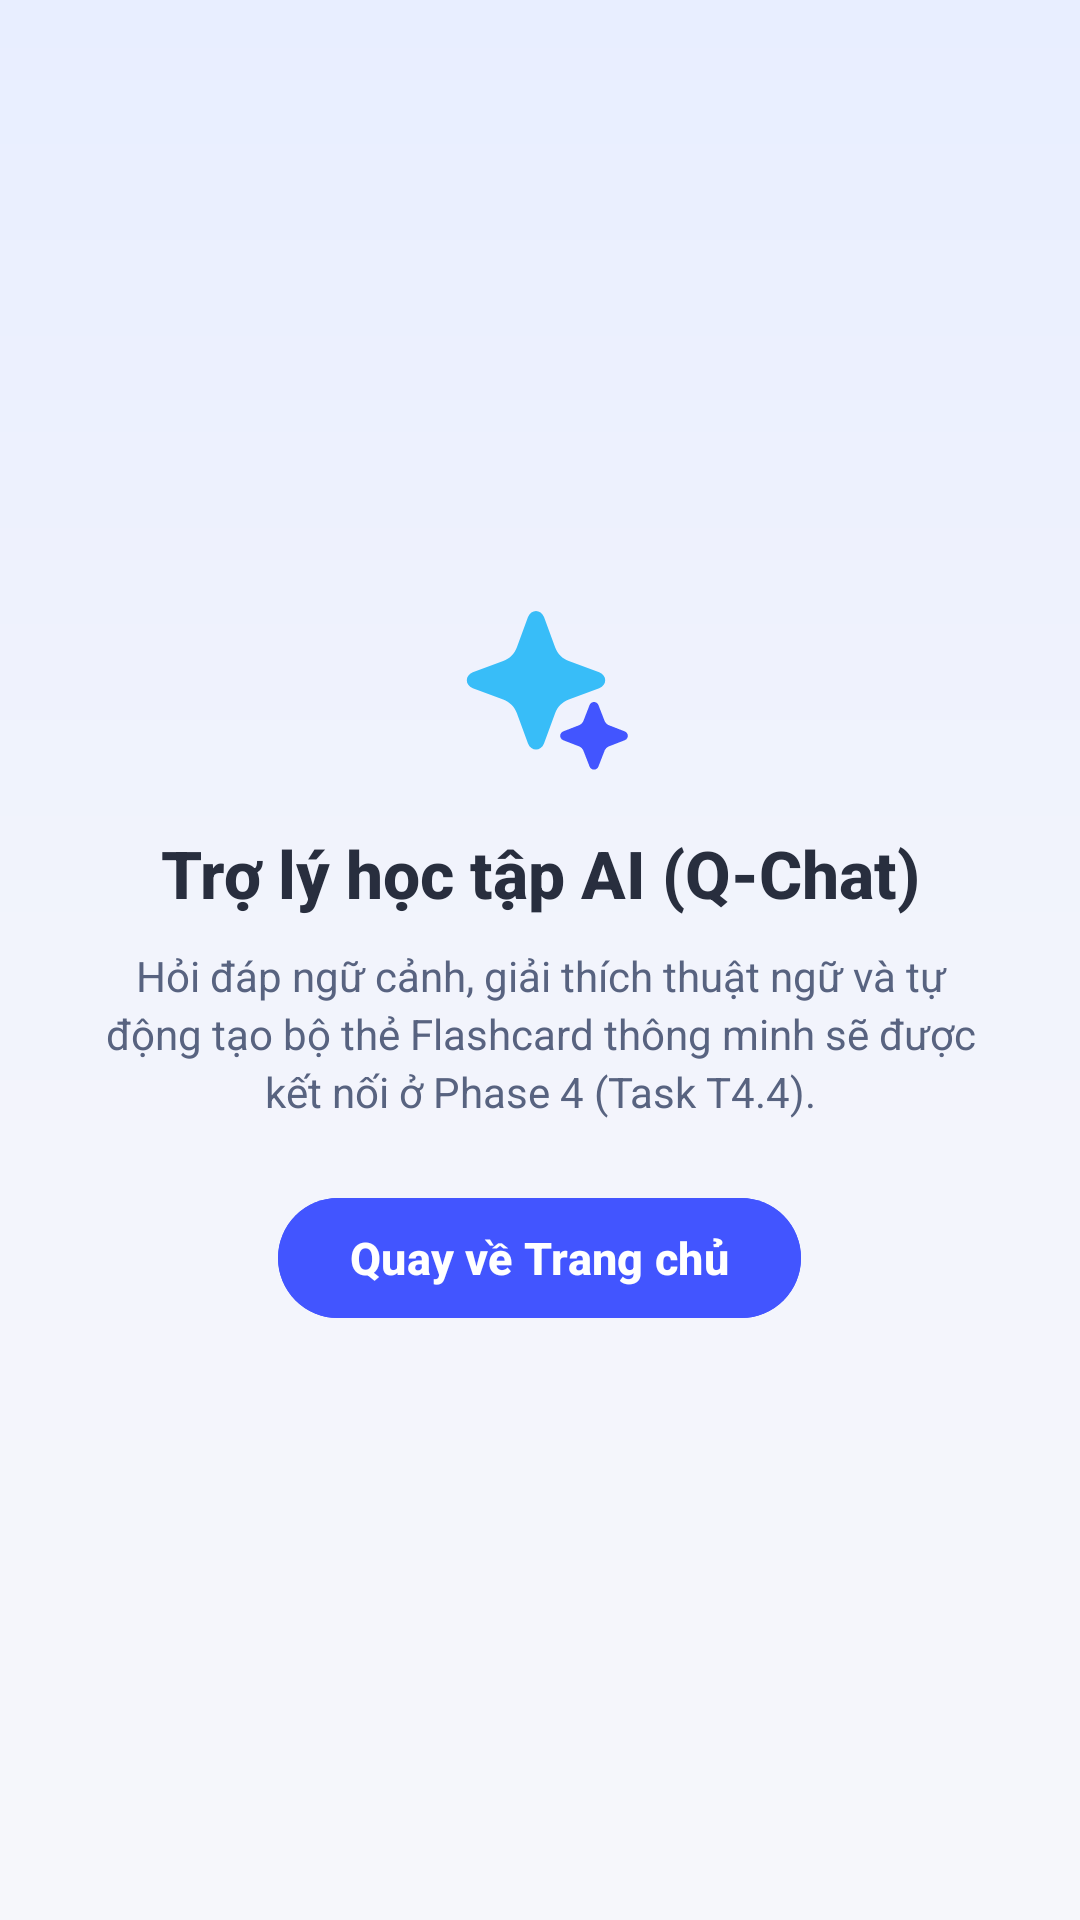

Icons on this 1080px x 1920px Android screen, each with the point to tap as (x,y):
AI Chatbot: (547,690)
